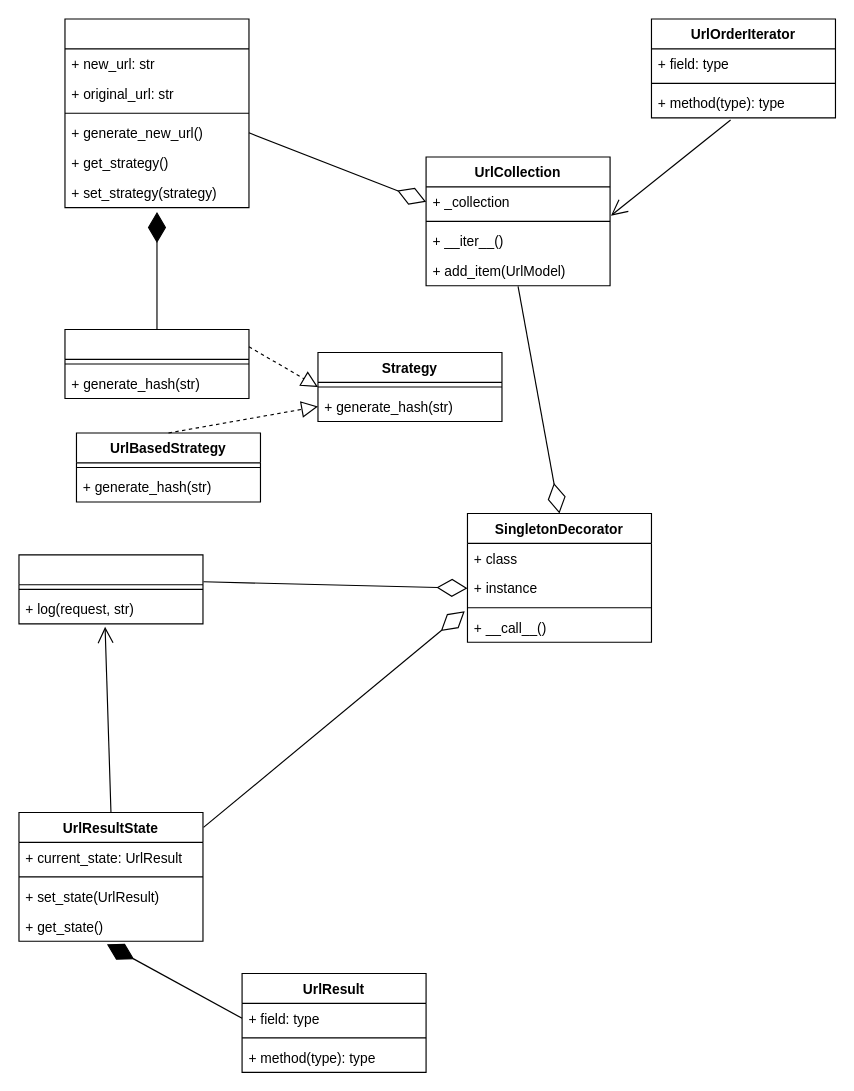
Image size: 854x1091. Some labels were removed from this diagram. Each missing label, with the box of its shape:
BuiltInSecretStrategy: (64, 328, 249, 398)
LogManager: (18, 554, 203, 624)
UrlModel: (64, 18, 249, 208)
